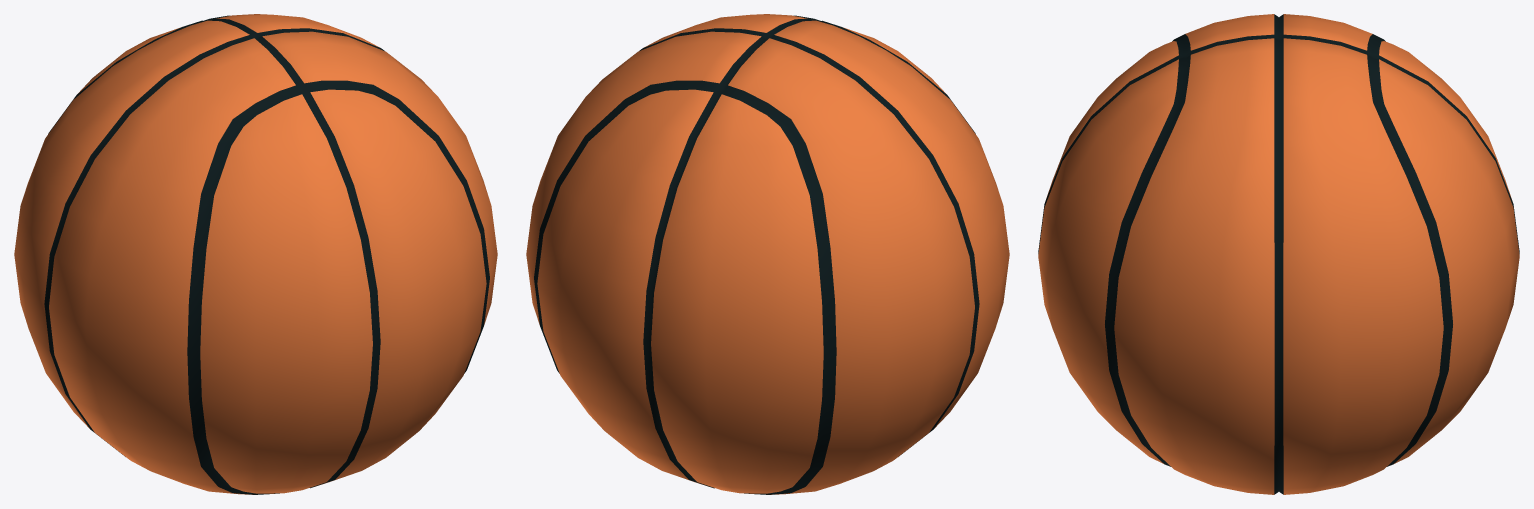
3 renders of one model, left to right at view 1: azimuth 30°, elevation 25°; view 2: azimuth 150°, elevation 25°; view 3: azimuth 270°, elevation 25°, orthographic.
Visible parts, largest first — view 1: Basketball; view 2: Basketball; view 3: Basketball.
Part boxes in pixels (x1,y1,x2,y2): Basketball: (14, 14, 497, 494); Basketball: (526, 14, 1009, 494); Basketball: (1038, 14, 1519, 494).
Size of the model in its own units: 1.94 by 1.94 by 1.94.
